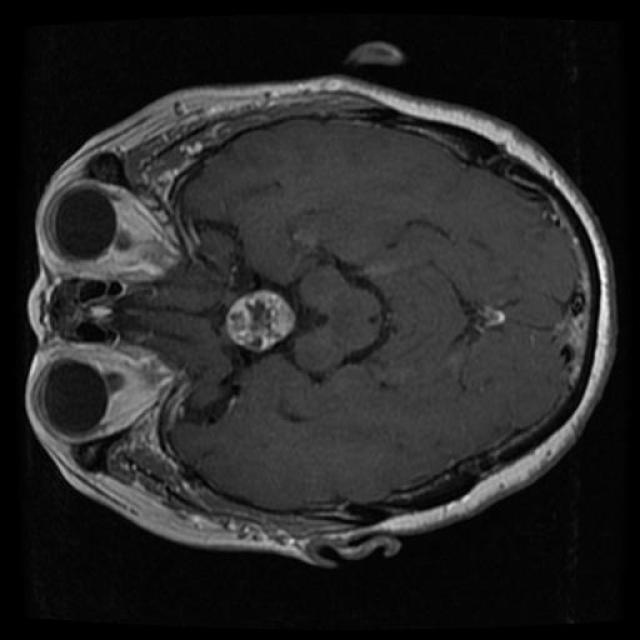Pituitary: (225, 289, 296, 353)
